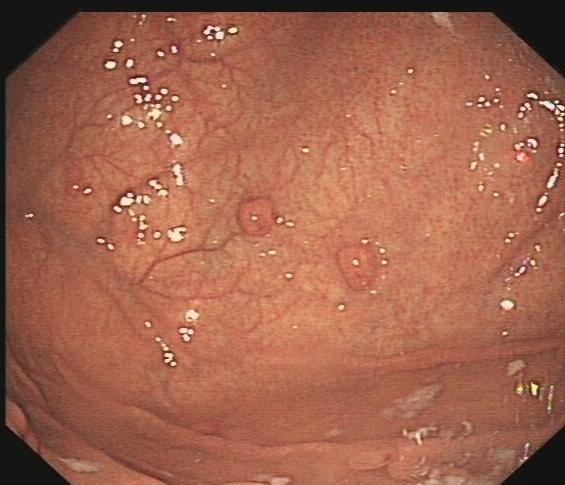Polyp: (330, 243, 392, 296)
